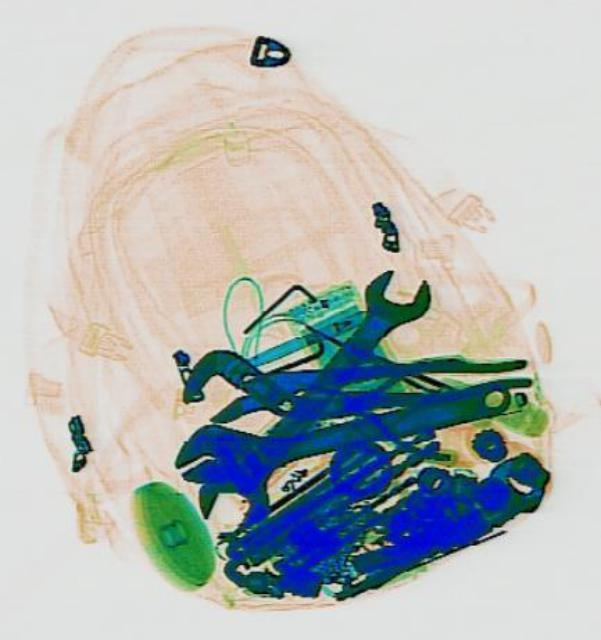Wrench: (184, 252, 439, 542), (163, 356, 516, 504)
